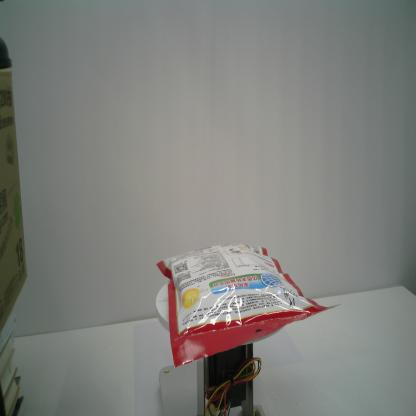Instant Drink: (155, 242, 343, 370)
